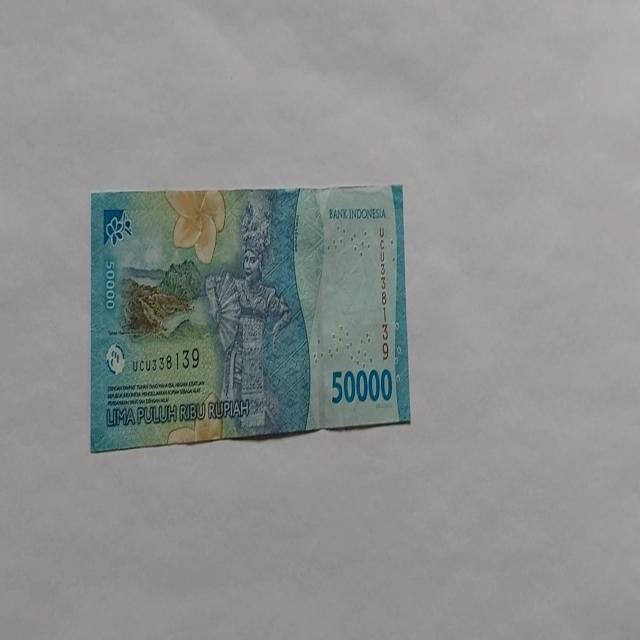lima puluh ribu rupiah: (89, 182, 411, 452)
